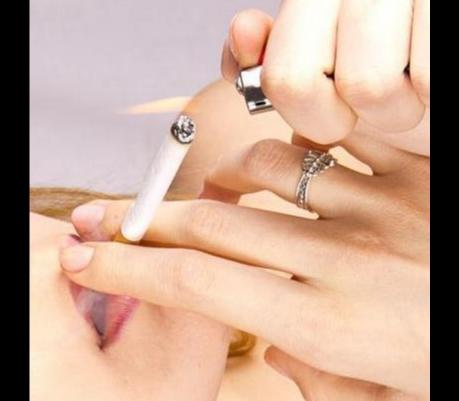Cigarette: (107, 113, 196, 253)
